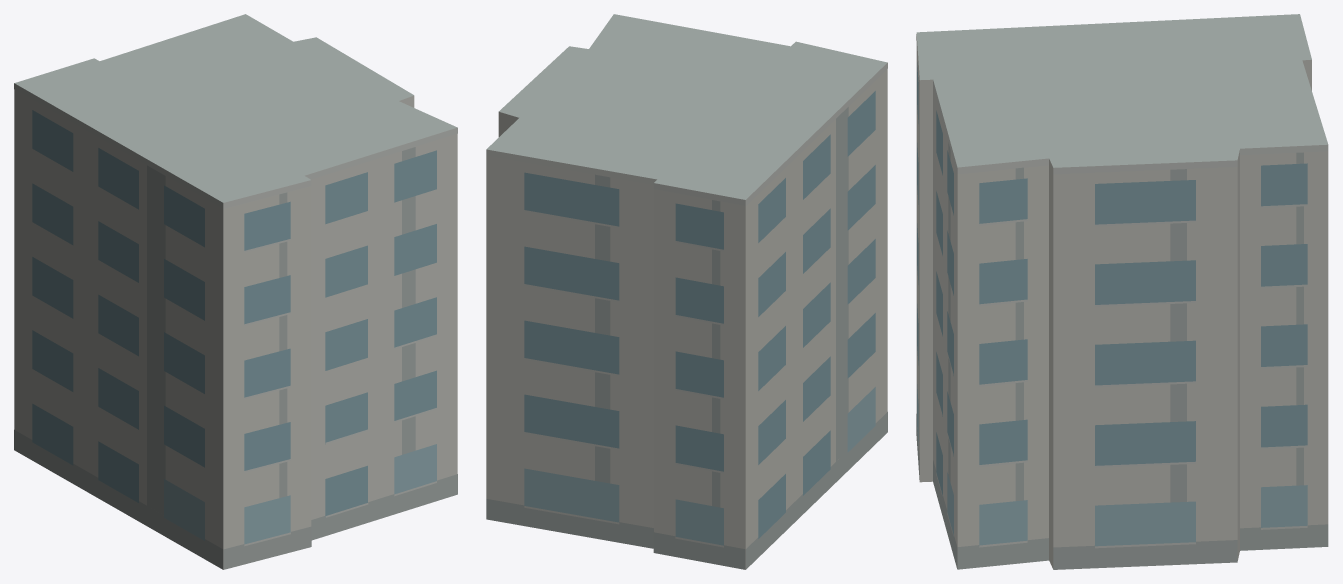
File: survey-upis-32883240.glb
3 views of the same model, side by side, from view 1: azimuth 30°, elevation 25°; view 2: azimuth 150°, elevation 25°; view 3: azimuth 270°, elevation 25° (orthographic). The views are drawn at different scales.
Parts seen in each view (by area): view 1: survey-upis-32883240.tmp; view 2: survey-upis-32883240.tmp; view 3: survey-upis-32883240.tmp.
Boxes of the visible parts, x1,y1,x2,y2 form: survey-upis-32883240.tmp: [14, 14, 457, 569]; survey-upis-32883240.tmp: [486, 14, 887, 569]; survey-upis-32883240.tmp: [916, 14, 1328, 569].
Size of the model in its own units: 12.07 by 14.7 by 13.66.
